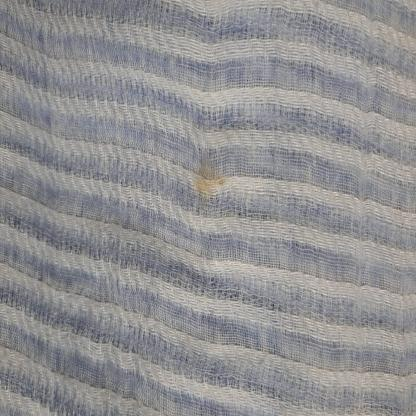spot: (184, 130, 238, 226)
